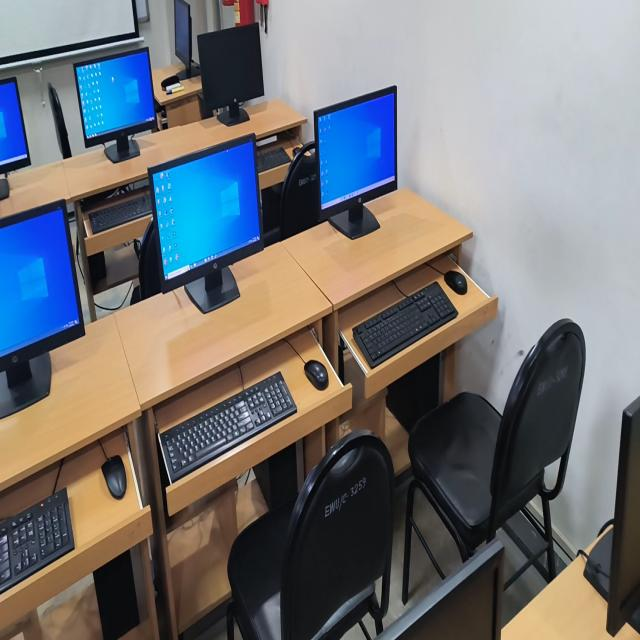Chair: (402, 319, 585, 603), (228, 431, 394, 639), (280, 142, 324, 239), (131, 220, 162, 304), (49, 83, 71, 159)
Cpu: (93, 545, 147, 639), (386, 353, 445, 434), (252, 440, 304, 510)
Fire Extinguisher: (233, 0, 255, 26)
Keyboard: (159, 372, 297, 482), (353, 283, 458, 368), (0, 489, 74, 593), (88, 185, 152, 234), (258, 148, 291, 172)
Monitor: (150, 134, 263, 313), (0, 200, 85, 418), (584, 396, 640, 636), (376, 539, 504, 639), (314, 86, 397, 239), (74, 47, 157, 161), (197, 24, 264, 126), (0, 78, 31, 200), (174, 0, 192, 70)
Mouse: (101, 456, 127, 500), (304, 360, 329, 390), (444, 271, 467, 295)
